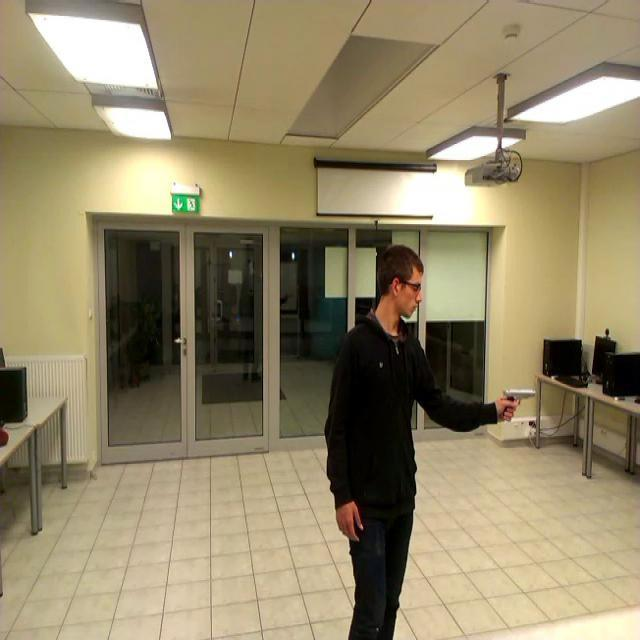weapon: (502, 389, 536, 424)
